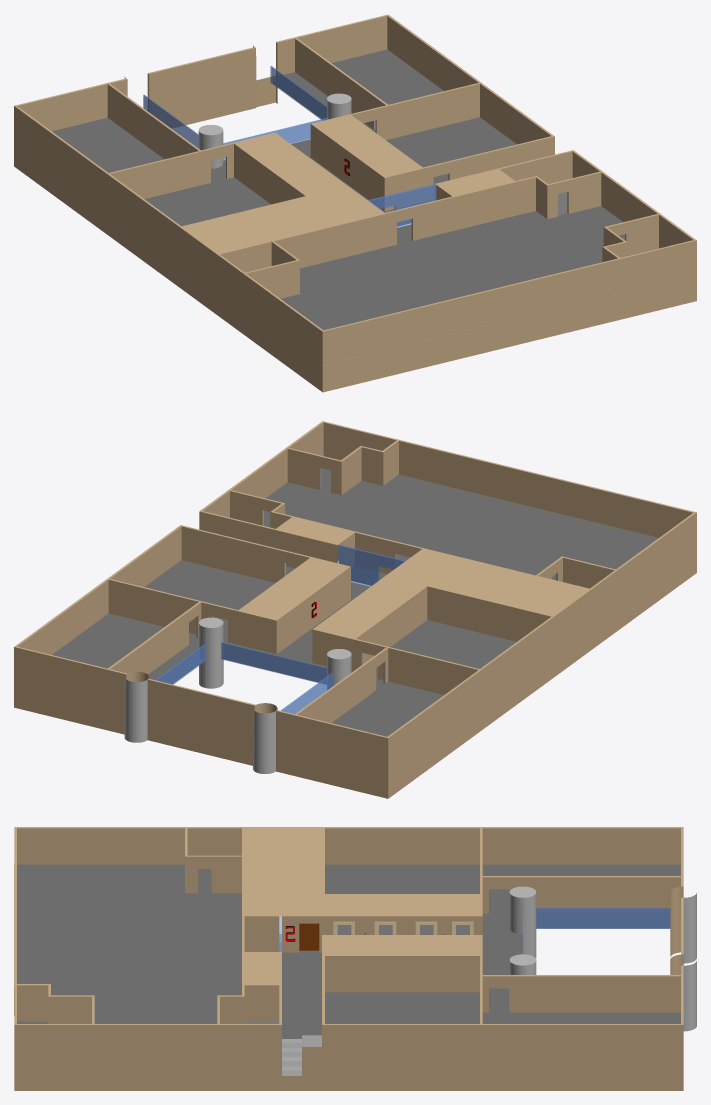
File: 2F-coloredNhan.gltf
3 views of the same model, one above another, from view 1: azimuth 30°, elevation 25°; view 2: azimuth 150°, elevation 25°; view 3: azimuth 270°, elevation 25° (orthographic). The views are drawn at different scales.
Visible parts, largest first — view 1: root; view 2: root; view 3: root.
Part boxes in pixels (box(x1,y1,x2,y2)): root: box(14, 14, 696, 392); root: box(14, 421, 696, 798); root: box(14, 827, 696, 1090).
Bounding box in the file's own units: 35 × 5.42 × 51.02.
